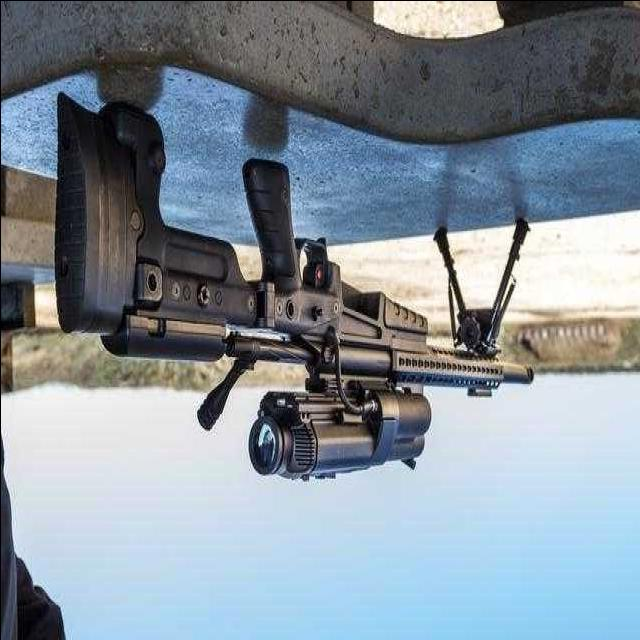heavyweapon: (50, 143, 560, 535)
